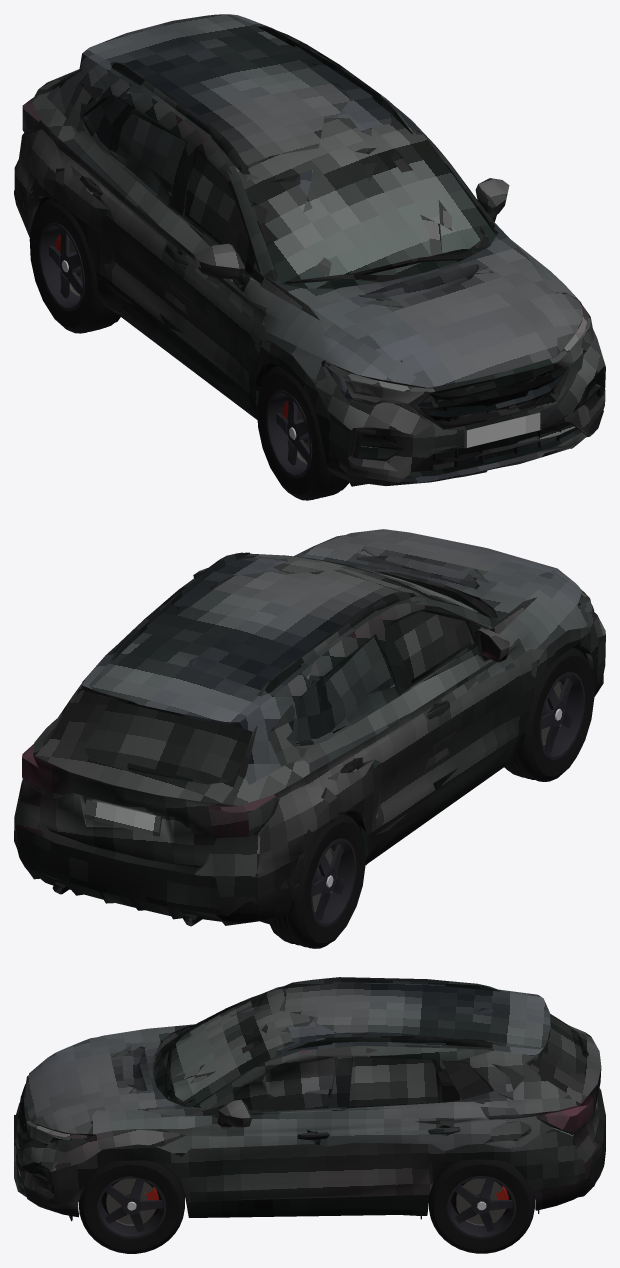
File: suv_m.glb
The picture shows the model from 3 angles, top to bottom: view 1: azimuth 30°, elevation 25°; view 2: azimuth 150°, elevation 25°; view 3: azimuth 270°, elevation 25°; orthographic projection. The views are drawn at different scales.
Parts seen in each view (by area): view 1: karosserie, rad_hr, rad_vr; view 2: karosserie, rad_hr, rad_vr; view 3: karosserie, rad_hl, rad_vl.
Boxes of the visible parts, x1,y1,x2,y2 form: karosserie: (14, 14, 605, 486); rad_hr: (29, 199, 120, 333); rad_vr: (257, 366, 349, 500); karosserie: (14, 529, 605, 926); rad_hr: (270, 814, 365, 948); rad_vr: (504, 647, 594, 781); karosserie: (14, 977, 605, 1221); rad_hl: (428, 1159, 534, 1253); rad_vl: (78, 1160, 184, 1253).
Size of the model in its own units: 2.06 by 1.64 by 4.45.
Materials: 3 (1 with a texture image).
